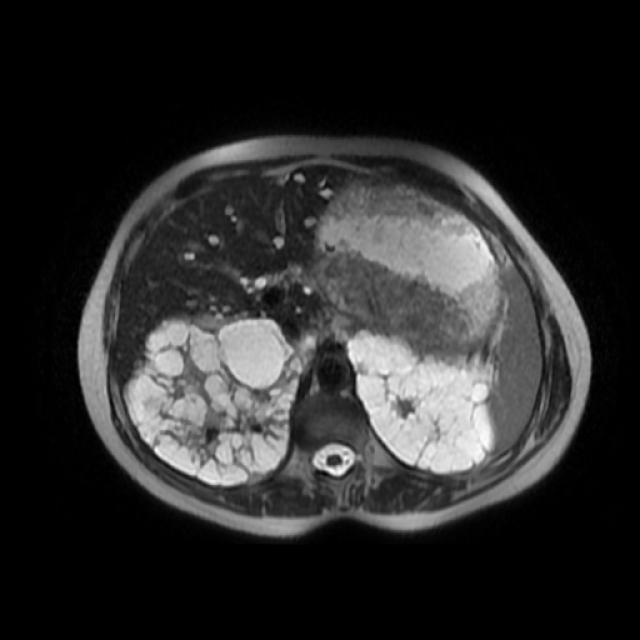sag: (124, 309, 318, 490)
sol: (344, 322, 498, 478)
